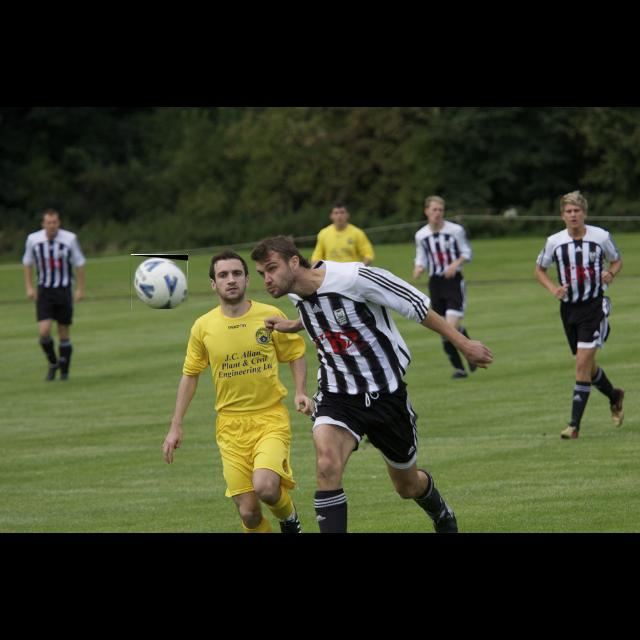Football: (130, 255, 188, 309)
